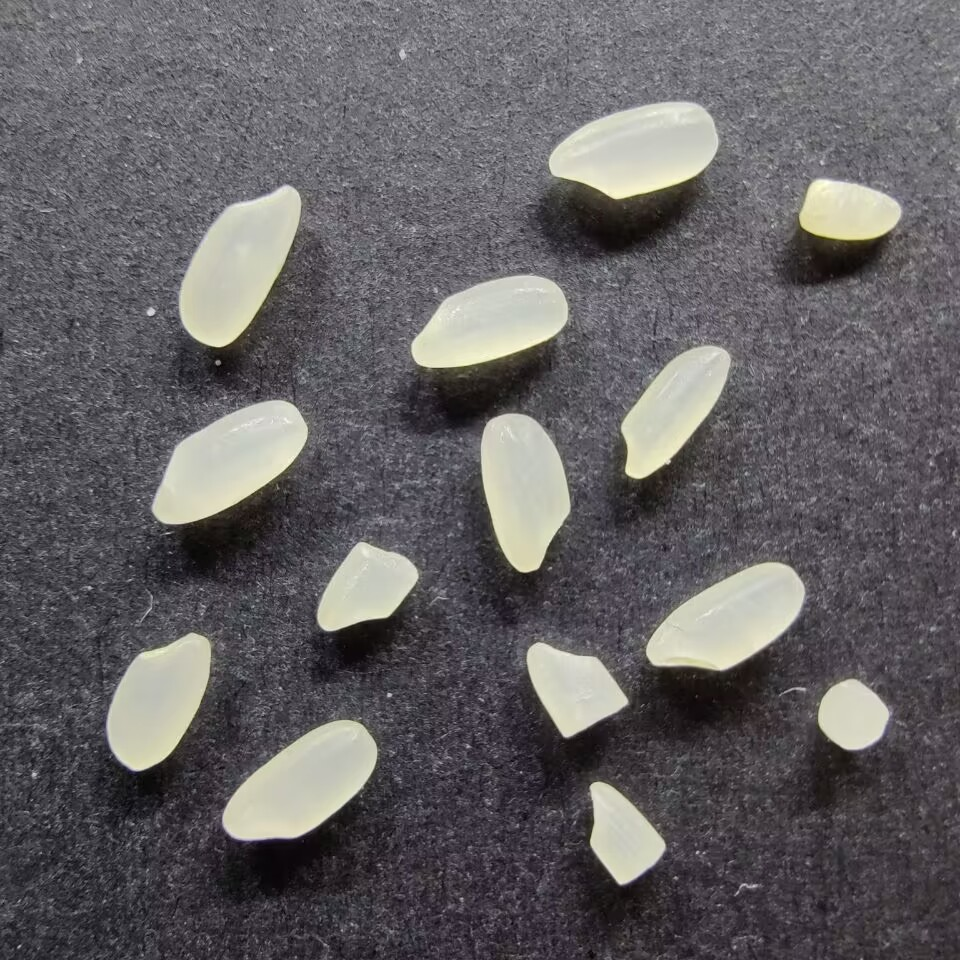broken: (525, 640, 631, 739), (315, 539, 420, 633), (583, 781, 668, 887), (798, 177, 904, 243), (815, 678, 891, 750)
rice: (150, 397, 309, 528), (177, 182, 301, 349), (220, 717, 378, 844), (643, 560, 806, 672), (544, 99, 720, 201), (477, 412, 574, 574), (105, 630, 213, 775), (620, 344, 731, 482), (410, 274, 569, 370)
